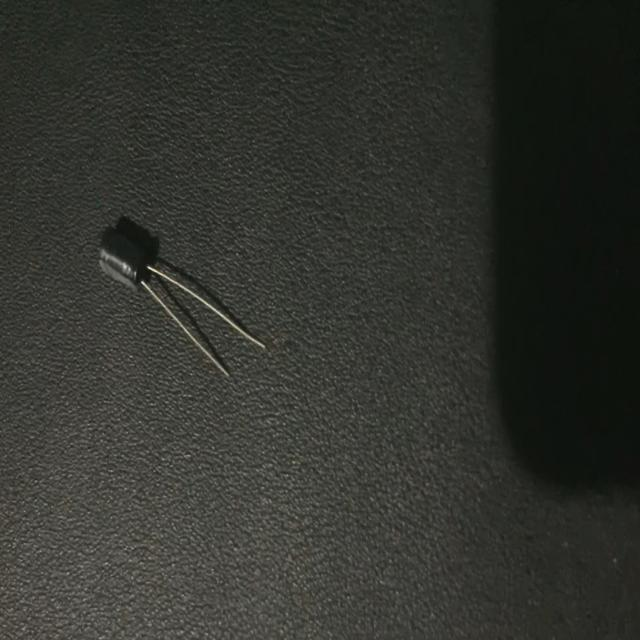capacitor: (97, 223, 265, 378)
